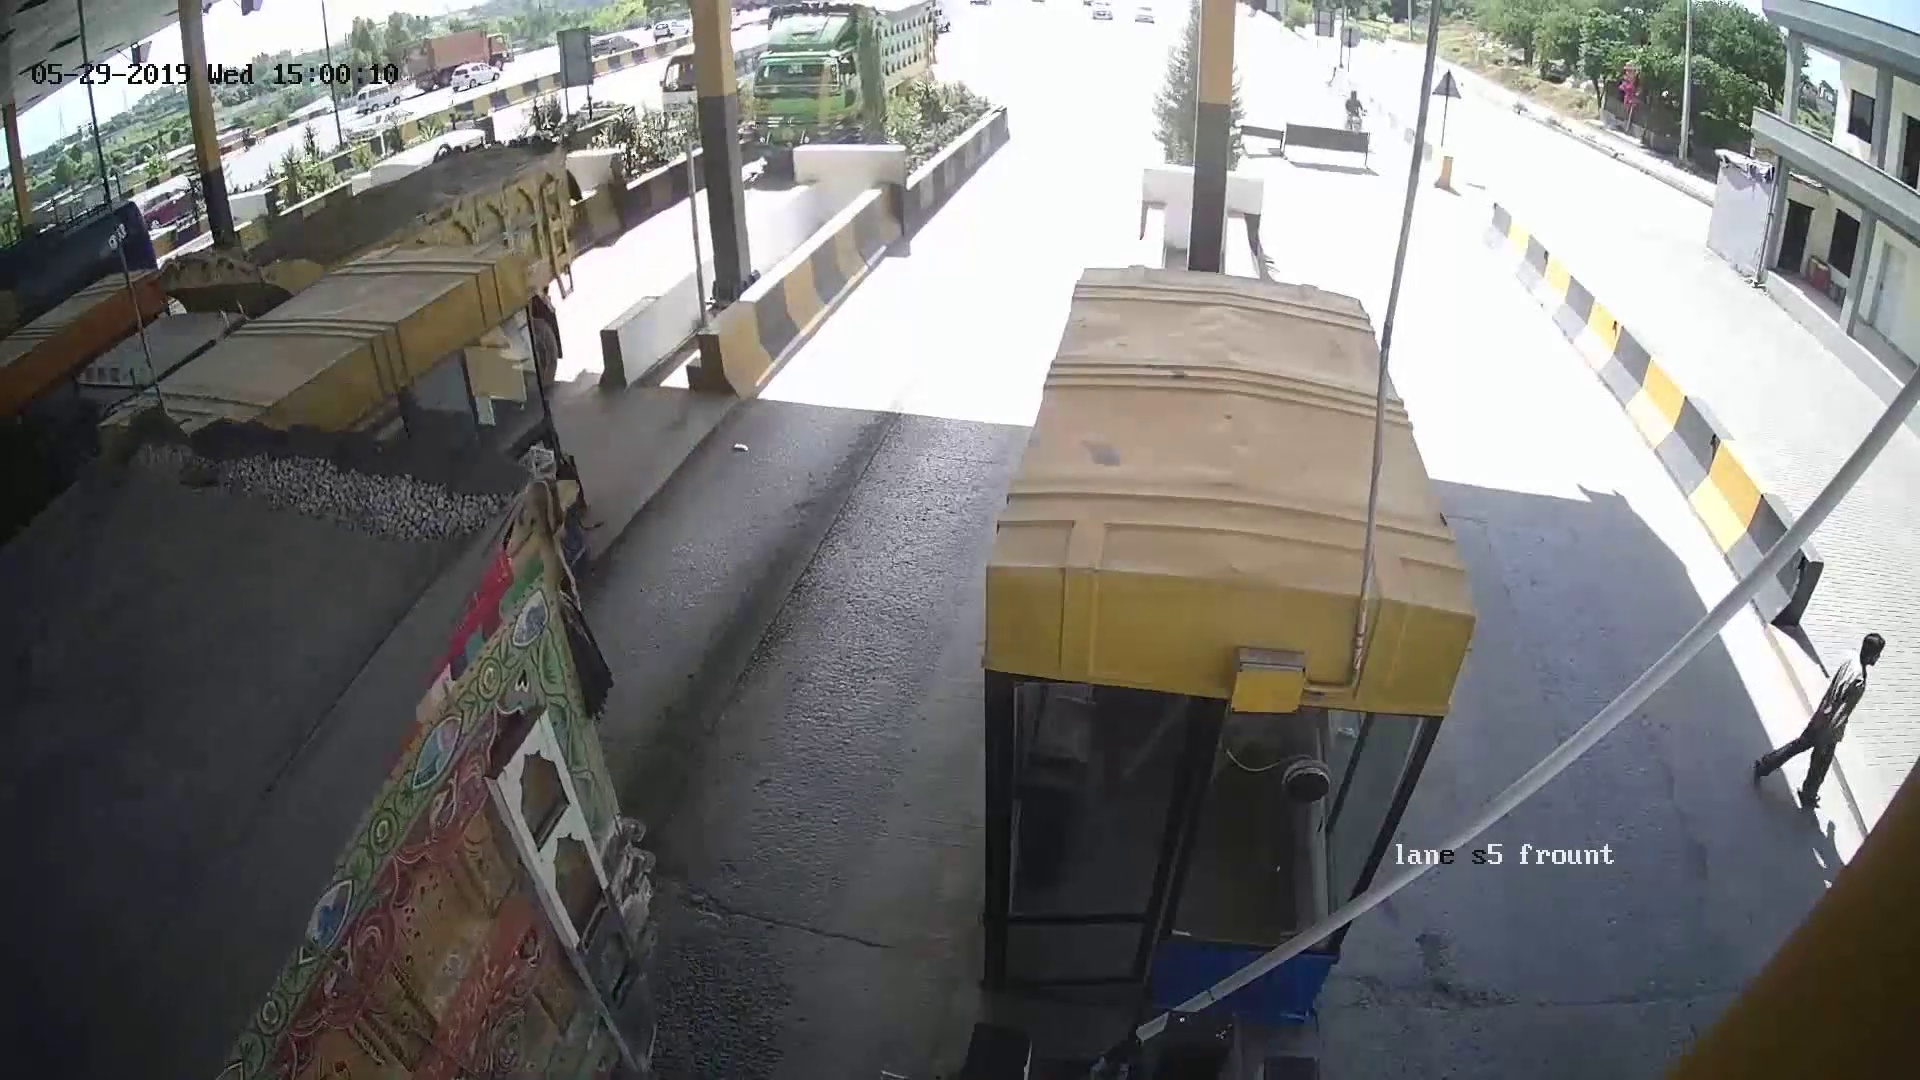truck: (67, 435, 574, 1048)
